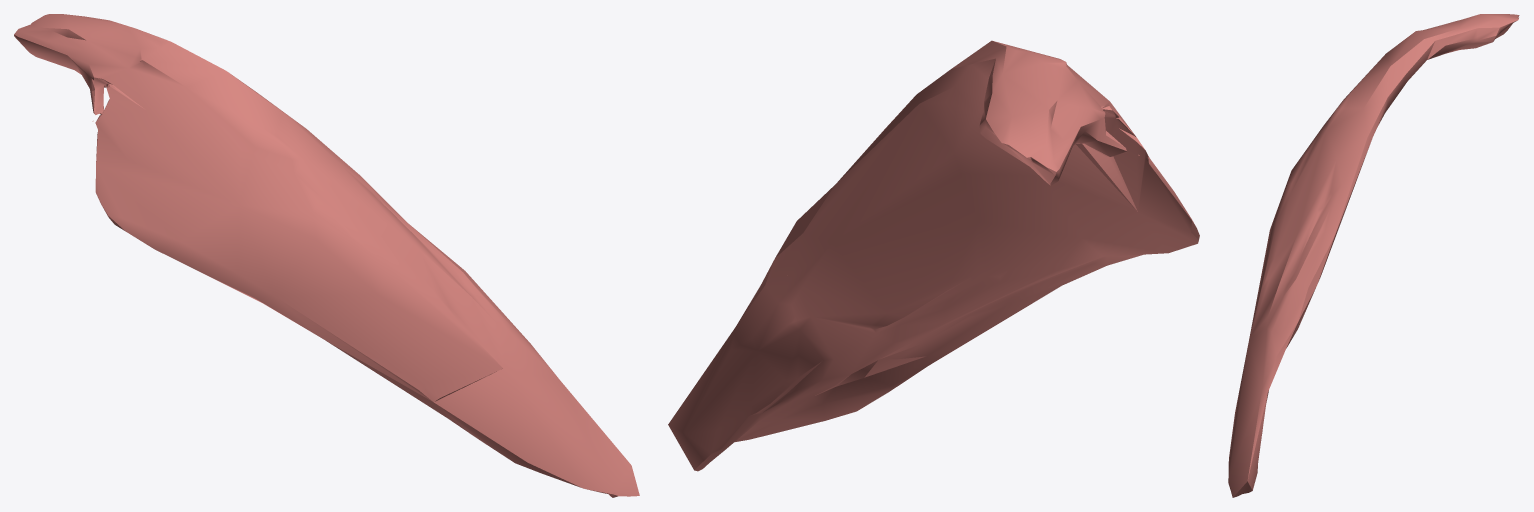
Rendered from fma37387_fj1483m.glb.
3 renders of one model, left to right at view 1: azimuth 30°, elevation 25°; view 2: azimuth 150°, elevation 25°; view 3: azimuth 270°, elevation 25°, orthographic. The views are drawn at different scales.
Parts seen in each view (by area): view 1: FMA37387_FJ1483M; view 2: FMA37387_FJ1483M; view 3: FMA37387_FJ1483M.
Part boxes in pixels (x1,y1,x2,y2): FMA37387_FJ1483M: [14, 14, 639, 497]; FMA37387_FJ1483M: [668, 40, 1199, 471]; FMA37387_FJ1483M: [1228, 14, 1519, 497].
Bounding box in the file's own units: 0.0392 × 0.0382 × 0.0297.
